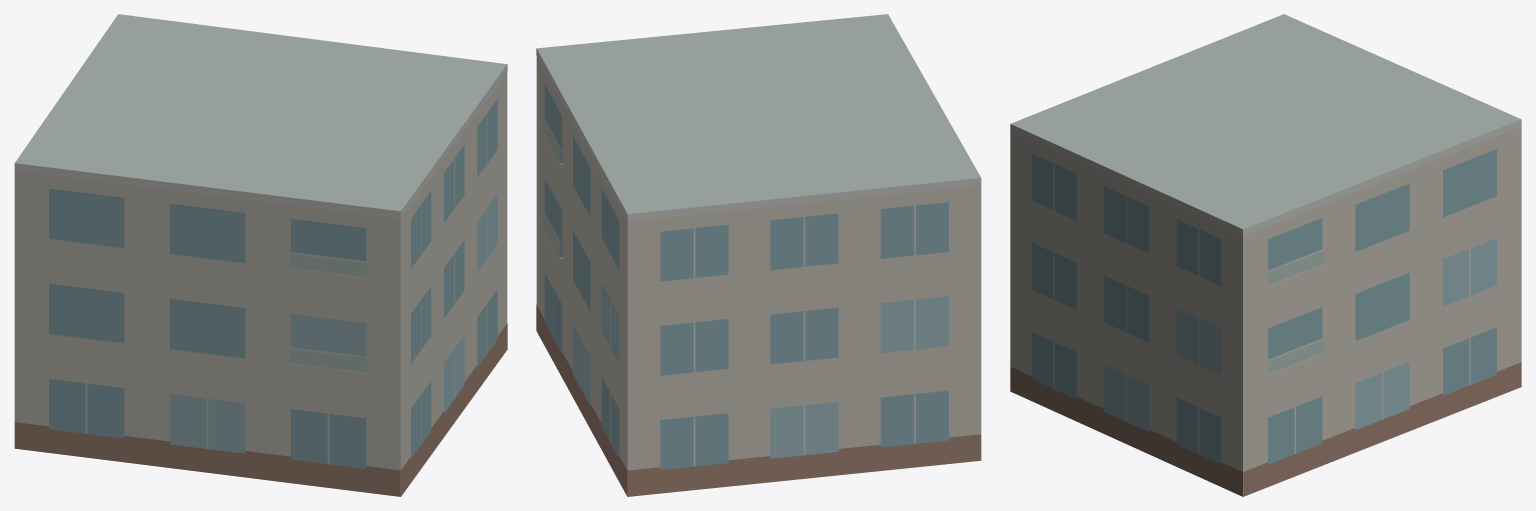
Rendered from survey-upis-32716631.glb.
3 renders of one model, left to right at view 1: azimuth 30°, elevation 25°; view 2: azimuth 150°, elevation 25°; view 3: azimuth 270°, elevation 25°, orthographic. The views are drawn at different scales.
Parts seen in each view (by area): view 1: survey-upis-32716631.tmp; view 2: survey-upis-32716631.tmp; view 3: survey-upis-32716631.tmp.
Boxes of the visible parts, x1,y1,x2,y2 form: survey-upis-32716631.tmp: [14, 14, 507, 496]; survey-upis-32716631.tmp: [536, 14, 981, 496]; survey-upis-32716631.tmp: [1010, 14, 1521, 496].
Bounding box in the file's own units: 15.8 × 9.15 × 15.86.
